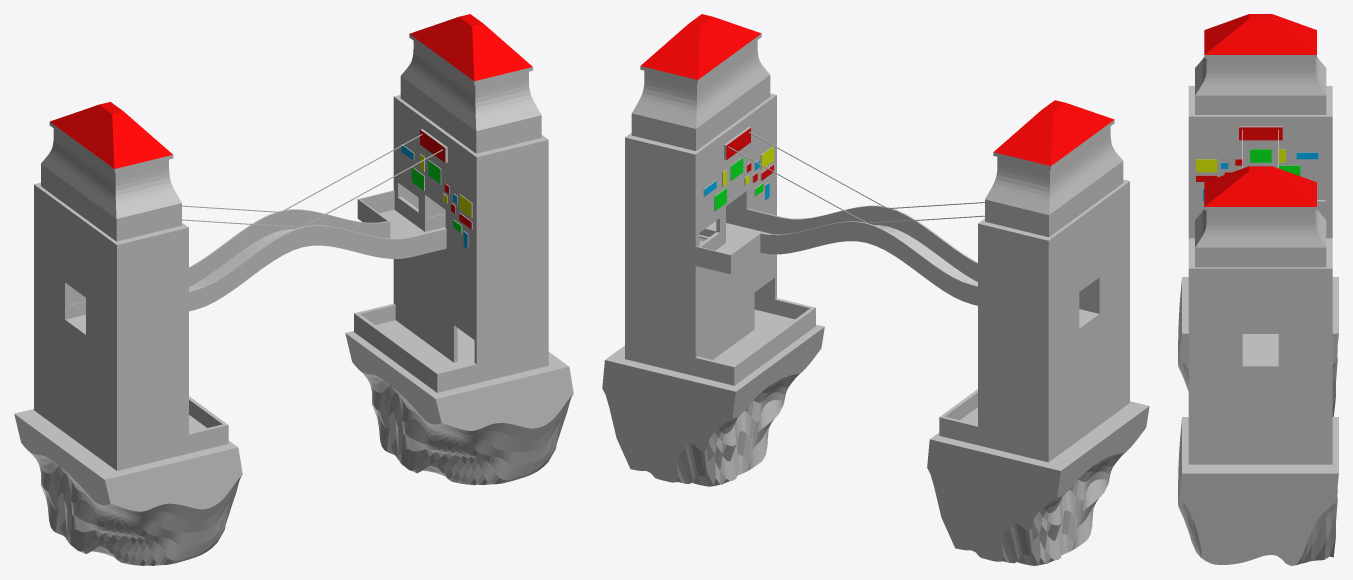
Rendered from bridge.obj.
3 views of the same model, side by side, from view 1: azimuth 30°, elevation 25°; view 2: azimuth 150°, elevation 25°; view 3: azimuth 270°, elevation 25° (orthographic). The views are drawn at different scales.
Visible parts, largest first — view 1: Cube; view 2: Cube; view 3: Cube.
Boxes of the visible parts, bbox=[...] form: Cube: bbox=[14, 14, 573, 565]; Cube: bbox=[602, 14, 1149, 565]; Cube: bbox=[1178, 14, 1338, 565].
Size of the model in its own units: 131 by 117 by 44.7.
